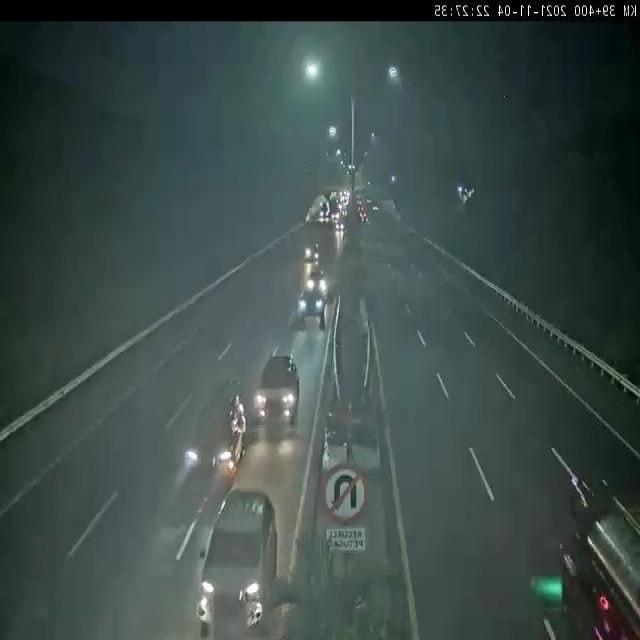Car: (548, 477, 636, 640), (206, 480, 279, 640), (180, 395, 248, 494), (249, 345, 303, 432), (295, 283, 329, 329), (300, 264, 334, 296)
